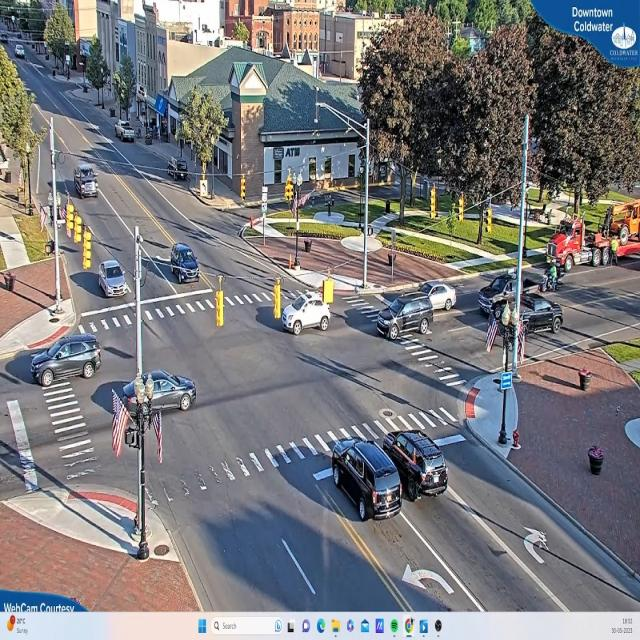car: (330, 438, 405, 522), (385, 431, 449, 498), (28, 334, 104, 386), (482, 294, 562, 334), (124, 371, 196, 414), (379, 296, 434, 339), (282, 295, 332, 335), (97, 259, 130, 298), (418, 283, 460, 313), (170, 244, 200, 282), (75, 164, 98, 196), (76, 177, 98, 199), (117, 122, 137, 144)
